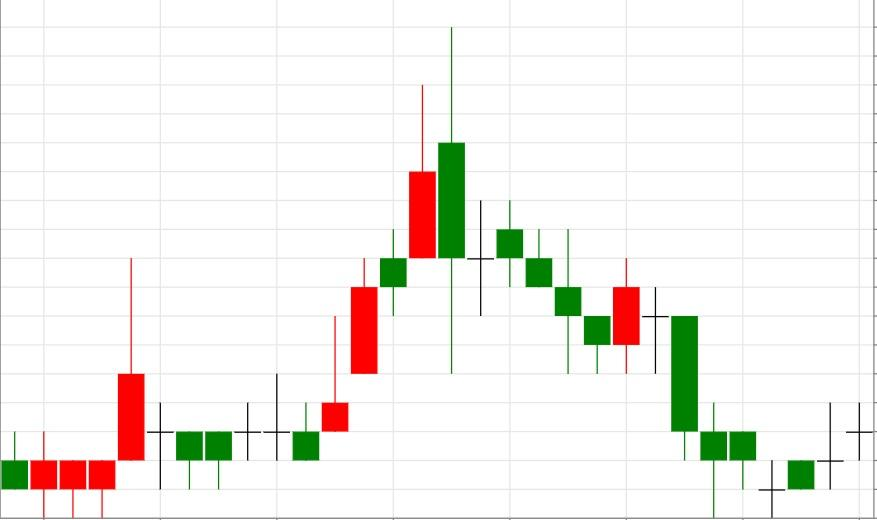bearish_engulfing_fall: (175, 27, 466, 488)
